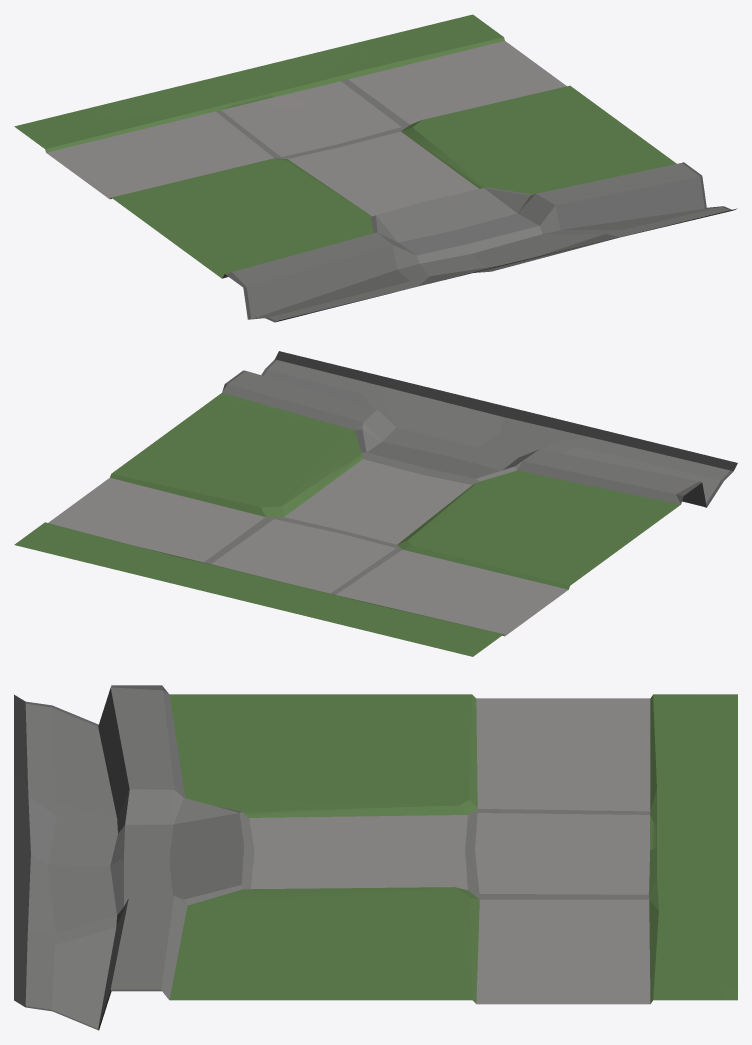
The model's file is SM_Env_Sidewalk_Crossing_01.fbx.
3 renders of one model, top to bottom at view 1: azimuth 30°, elevation 25°; view 2: azimuth 150°, elevation 25°; view 3: azimuth 270°, elevation 25°, orthographic. The views are drawn at different scales.
Parts seen in each view (by area): view 1: SM_Env_Sidewalk_Crossing_01; view 2: SM_Env_Sidewalk_Crossing_01; view 3: SM_Env_Sidewalk_Crossing_01.
Part boxes in pixels (left/top/right/bottom): SM_Env_Sidewalk_Crossing_01: left=14, top=14, right=737, bottom=322; SM_Env_Sidewalk_Crossing_01: left=14, top=351, right=737, bottom=656; SM_Env_Sidewalk_Crossing_01: left=14, top=685, right=737, bottom=1030.
Bounding box in the file's own units: 500 × 30 × 500.
